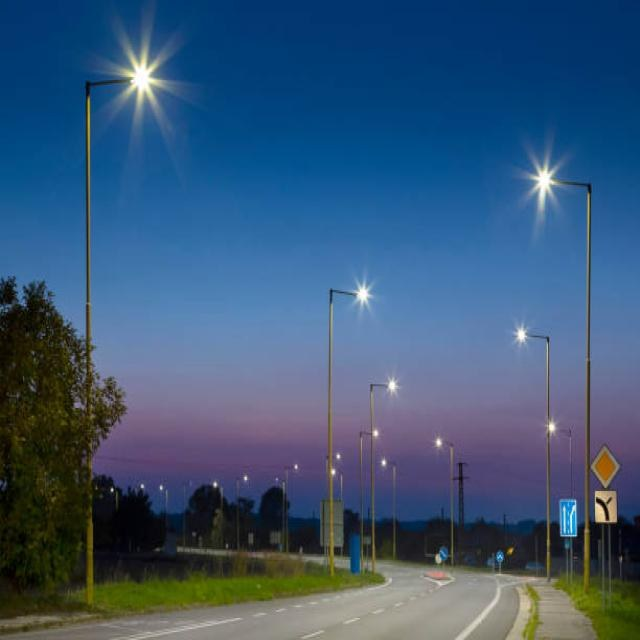acesa: (90, 7, 196, 122), (514, 140, 572, 216), (342, 275, 378, 315), (511, 320, 534, 348), (382, 372, 402, 397)
